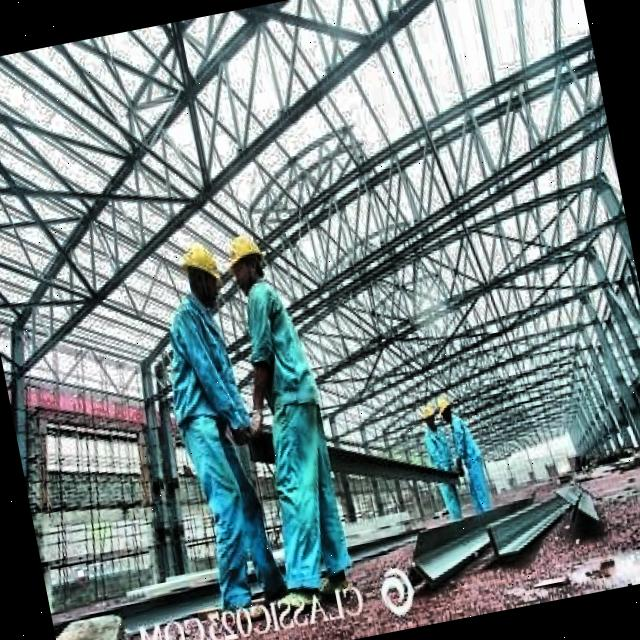helmet: (178, 239, 227, 303), (223, 230, 273, 292), (418, 399, 442, 434), (434, 390, 456, 426)
